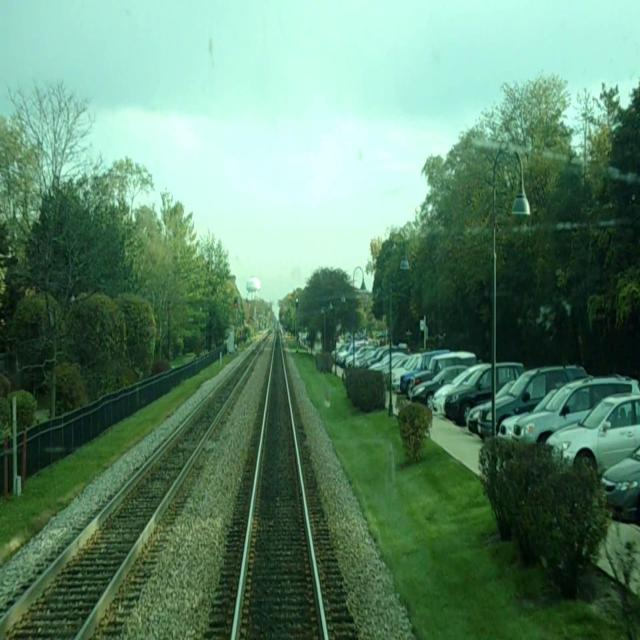rail-track: (0, 343, 261, 639), (234, 332, 323, 639)
